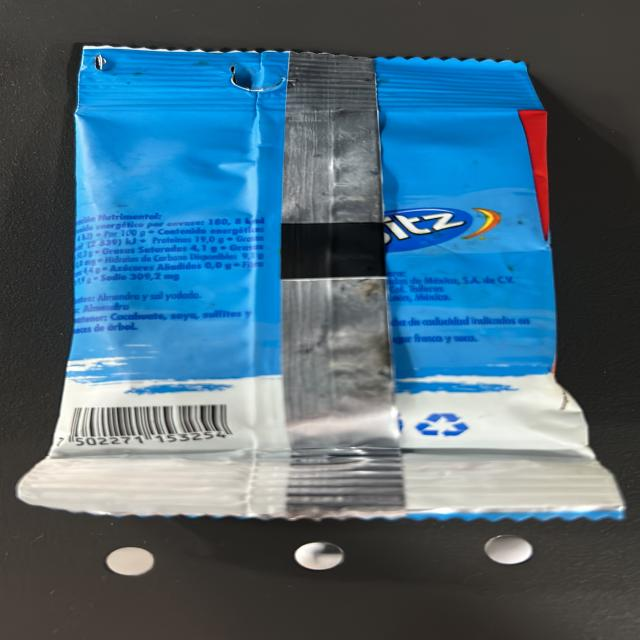productoAtras: (77, 57, 545, 516)
